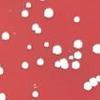white: (70, 37, 85, 51), (50, 42, 64, 57), (41, 7, 56, 20), (17, 7, 31, 20), (81, 79, 94, 93), (69, 59, 81, 72), (35, 55, 46, 69), (0, 31, 12, 43), (19, 59, 30, 71), (88, 75, 98, 88), (91, 42, 100, 56), (30, 89, 41, 100), (30, 21, 40, 32), (23, 0, 33, 10), (73, 50, 83, 60), (33, 26, 43, 36), (24, 42, 33, 53), (71, 15, 81, 24), (0, 63, 6, 78), (42, 40, 51, 49), (0, 90, 8, 100), (94, 71, 100, 84), (67, 54, 75, 62), (37, 0, 49, 4)
